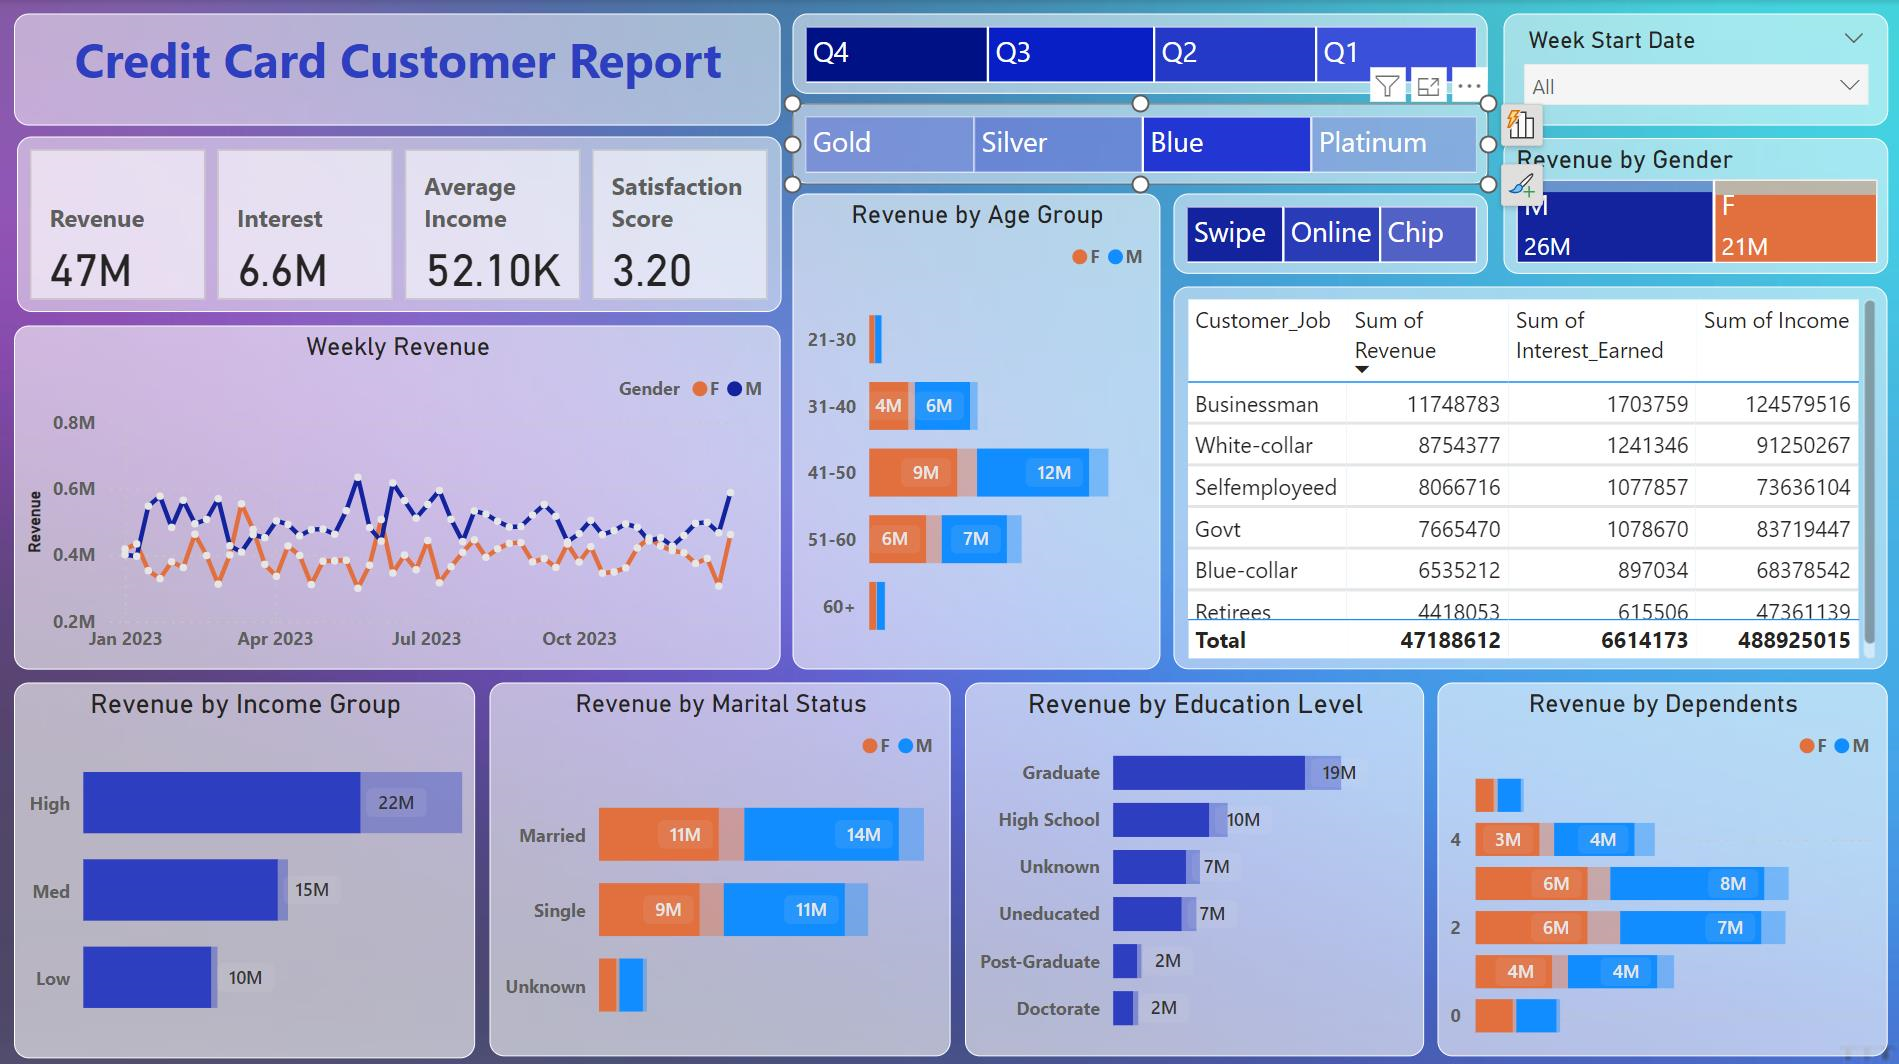

The dashboard page shown, as its layout file describes it:
{"tool":"powerbi","page":{"name":"Customer","canvas":[1280,720],"ordinal":2},"visuals":[{"type":"textbox","box":[10,8.8,515,75],"z":0},{"type":"barChart","title":"Revenue by Income Group","fields":{"Y":["Sum(ccdb cc_detail.Revenue)"],"Category":["ccdb cust_detail.IncomeGroup"]},"box":[10,458.8,310,252.5],"z":1000},{"type":"tableEx","fields":{"Values":["ccdb cust_detail.Customer_Job","Sum(ccdb cc_detail.Revenue)","Sum(ccdb cc_detail.Interest_Earned)","Sum(ccdb cust_detail.Income)"]},"box":[790,192.5,480,257.5],"z":2000},{"type":"cardVisual","fields":{"Data":["Sum(ccdb cc_detail.Revenue)","Sum(ccdb cc_detail.Interest_Earned)","Avg(ccdb cust_detail.Income)","Avg(ccdb cust_detail.Cust_Satisfaction_Score)"]},"box":[11.7,92.2,514.2,117.7],"z":3000},{"type":"slicer","fields":{"Values":["ccdb cc_detail.Week_Start_Date"]},"box":[1011.2,8.8,258.8,75],"z":4000},{"type":"treemap","fields":{"Group":["ccdb cc_detail.Qtr"],"Values":["Avg(ccdb cc_detail.Client_Num)"]},"box":[533.8,8.8,467.5,53.8],"z":5000},{"type":"treemap","title":"Average Clients by Gender","fields":{"Values":["Avg(ccdb cc_detail.Client_Num)"],"Group":["ccdb cc_detail.Use_Chip"]},"box":[790,130,211.2,53.8],"z":6000},{"type":"treemap","fields":{"Values":["Avg(ccdb cc_detail.Client_Num)"],"Group":["ccdb cc_detail.Card_Category"]},"box":[533.8,70,467.5,53.8],"z":7000},{"type":"lineChart","title":"Weekly Revenue","fields":{"Y":["Sum(ccdb cc_detail.Revenue)"],"Series":["ccdb cust_detail.Gender"],"Category":["ccdb cc_detail.Week_Start_Date"]},"box":[10,218.8,515,231.2],"z":8000},{"type":"treemap","title":"Revenue by Gender","fields":{"Group":["ccdb cust_detail.Gender"],"Values":["Sum(ccdb cc_detail.Revenue)"]},"box":[1011.2,92.5,258.8,91.2],"z":9000},{"type":"barChart","title":"Revenue by Age Group","fields":{"Y":["Sum(ccdb cc_detail.Revenue)"],"Category":["ccdb cust_detail.AgeGroup"],"Series":["ccdb cust_detail.Gender"]},"box":[533.8,130,247.5,320],"z":10000},{"type":"barChart","title":"Revenue by Education Level","fields":{"Y":["Sum(ccdb cc_detail.Revenue)"],"Category":["ccdb cust_detail.Education_Level"]},"box":[649.2,458.8,308.8,251.2],"z":11000},{"type":"barChart","title":"Revenue by Dependents","fields":{"Y":["Sum(ccdb cc_detail.Revenue)"],"Category":["ccdb cust_detail.Dependent_Count"],"Series":["ccdb cust_detail.Gender"]},"box":[967.5,458.8,302.5,251.2],"z":12000},{"type":"barChart","title":"Revenue by Marital Status","fields":{"Y":["Sum(ccdb cc_detail.Revenue)"],"Category":["ccdb cust_detail.Marital_Status"],"Series":["ccdb cust_detail.Gender"]},"box":[329.6,458.8,310,251.2],"z":13000}]}

Visuals, with their boxes in screenshot pixels (x1, y1, x2, y2):
textbox: 5, 0, 783, 112
"Revenue by Income Group" barChart: 5, 678, 473, 1059
tableEx - ccdb cust_detail.Customer_Job x Sum(ccdb cc_detail.Revenue): 1183, 276, 1898, 665
cardVisual - Sum(ccdb cc_detail.Revenue) x Sum(ccdb cc_detail.Interest_Earned): 8, 124, 784, 302
slicer - ccdb cc_detail.Week_Start_Date: 1517, 0, 1898, 112
treemap - ccdb cc_detail.Qtr x Avg(ccdb cc_detail.Client_Num): 796, 0, 1502, 80
"Average Clients by Gender" treemap: 1183, 181, 1502, 263
treemap - Avg(ccdb cc_detail.Client_Num) x ccdb cc_detail.Card_Category: 796, 91, 1502, 172
"Weekly Revenue" lineChart: 5, 316, 783, 665
"Revenue by Gender" treemap: 1517, 125, 1898, 263
"Revenue by Age Group" barChart: 796, 181, 1170, 665
"Revenue by Education Level" barChart: 970, 678, 1437, 1057
"Revenue by Dependents" barChart: 1451, 678, 1898, 1057
"Revenue by Marital Status" barChart: 488, 678, 956, 1057
